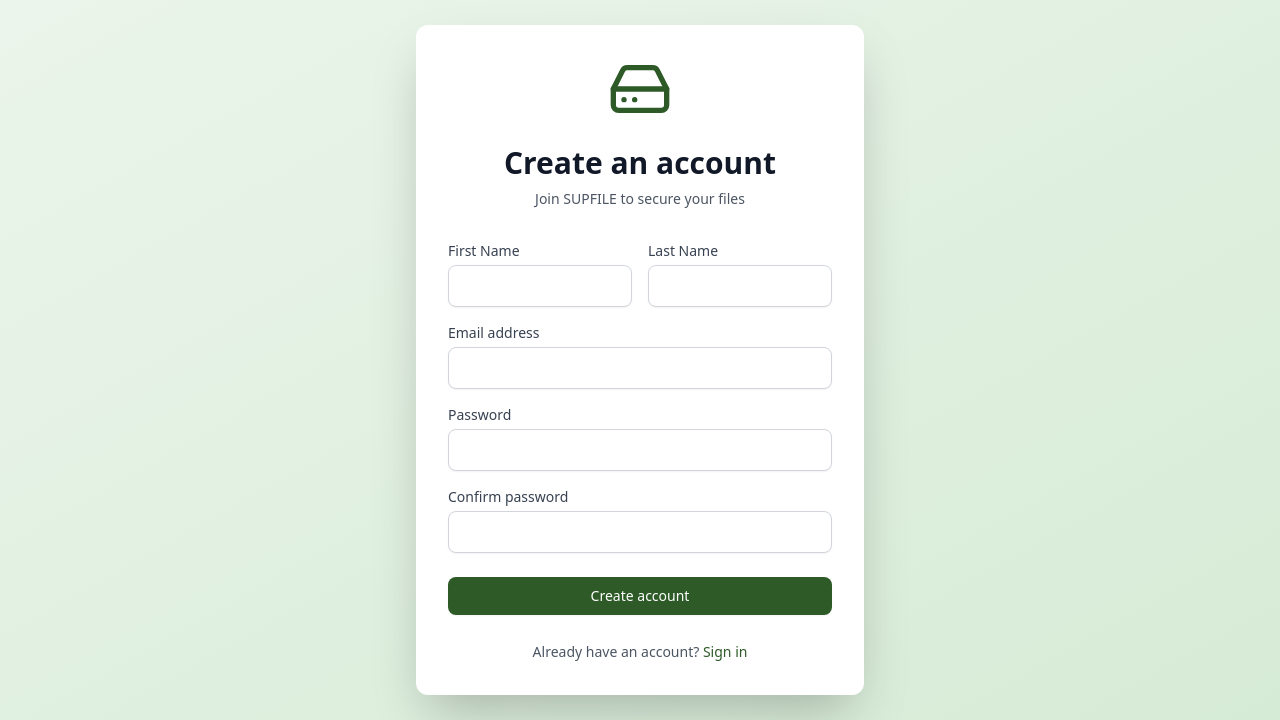
Register Flow › should show an error when passwords do not match
The image size is (1280, 720).
Type "test@example.com" into the field below "Email address".
click(640, 368); type("test@example.com")  # box [448, 347, 832, 389]
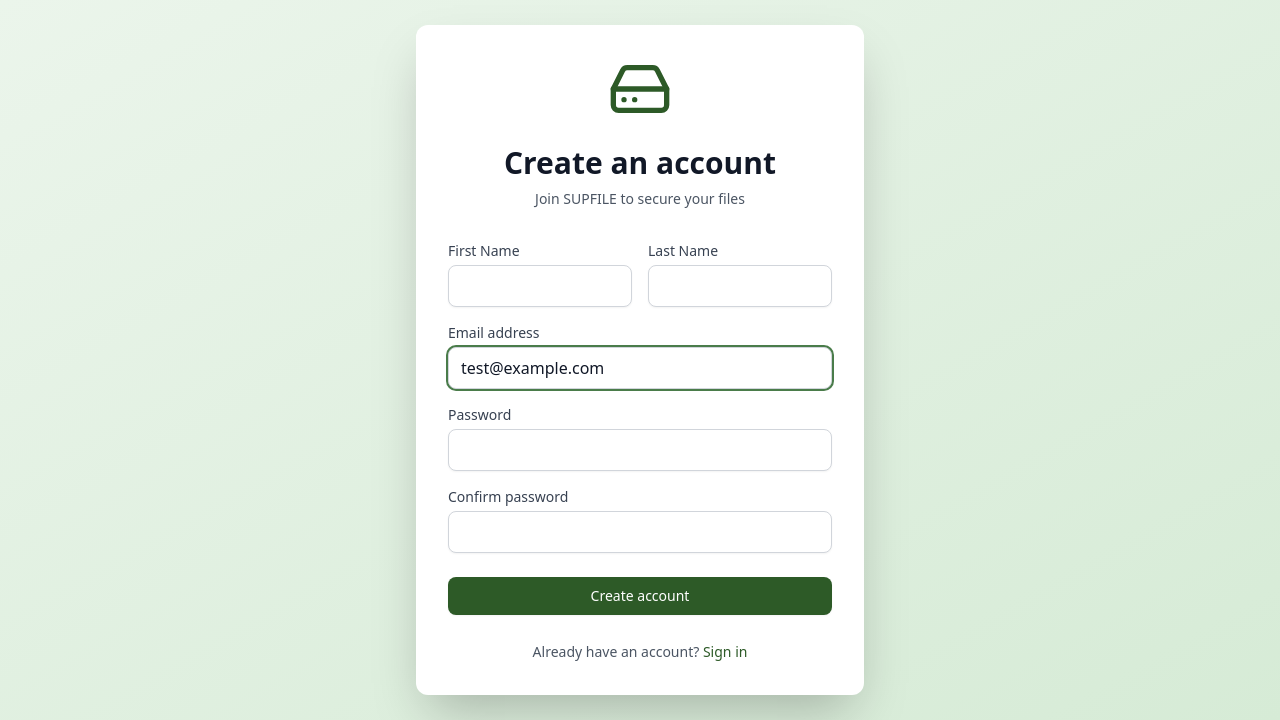
Type "password123" into the 1st password field.
click(640, 450); type("password123")  # box [448, 429, 832, 471]
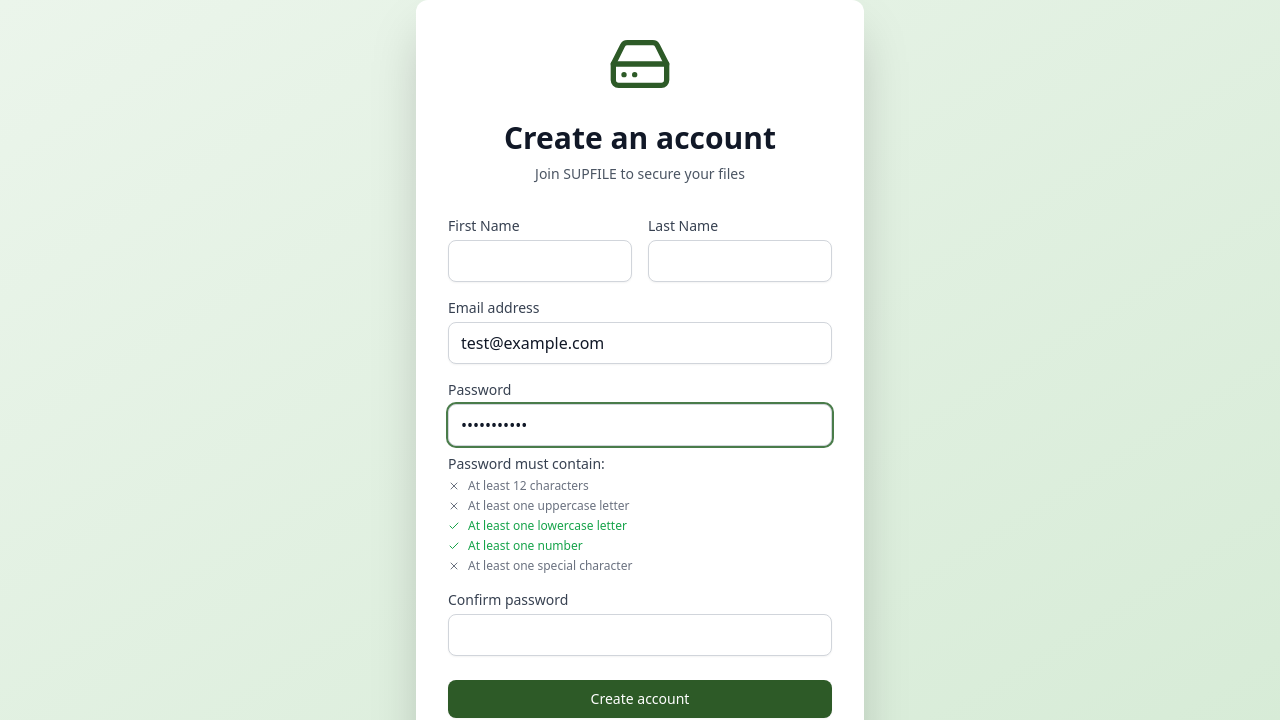
Type "different123" into the password field below "Confirm password".
click(640, 635); type("different123")  # box [448, 614, 832, 656]
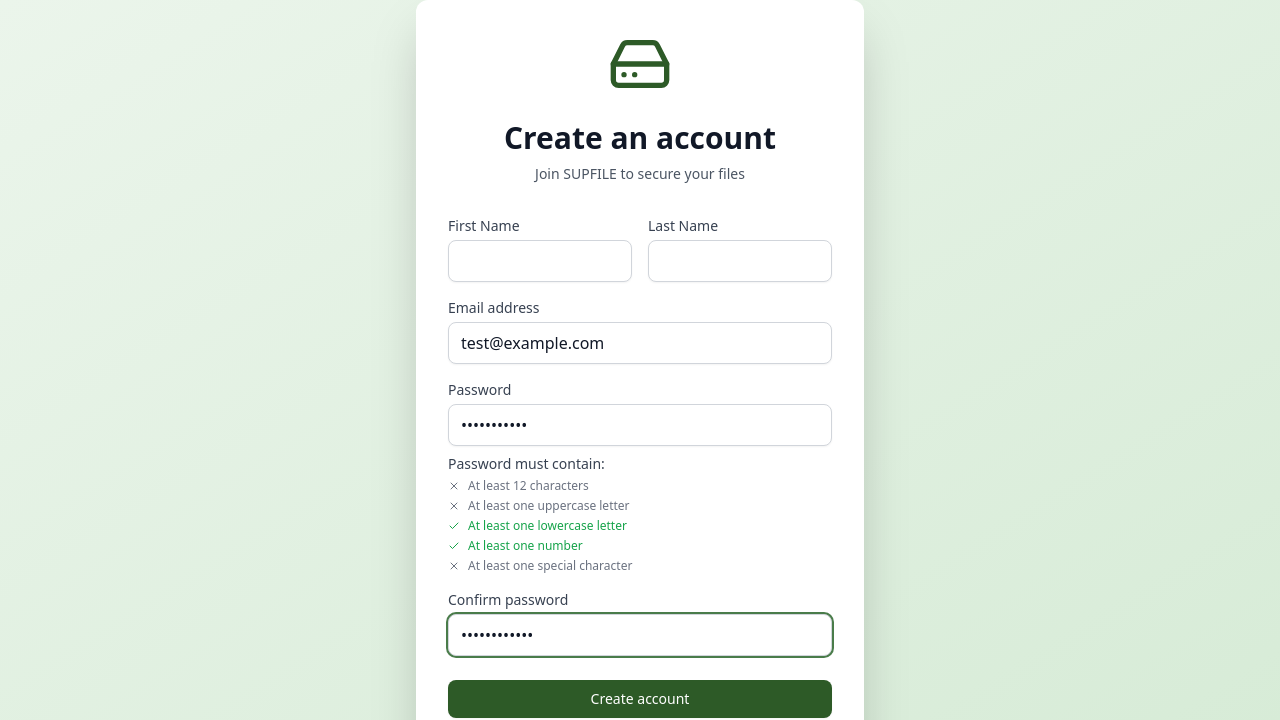
Click the submit button.
click(640, 699)  # box [448, 680, 832, 718]
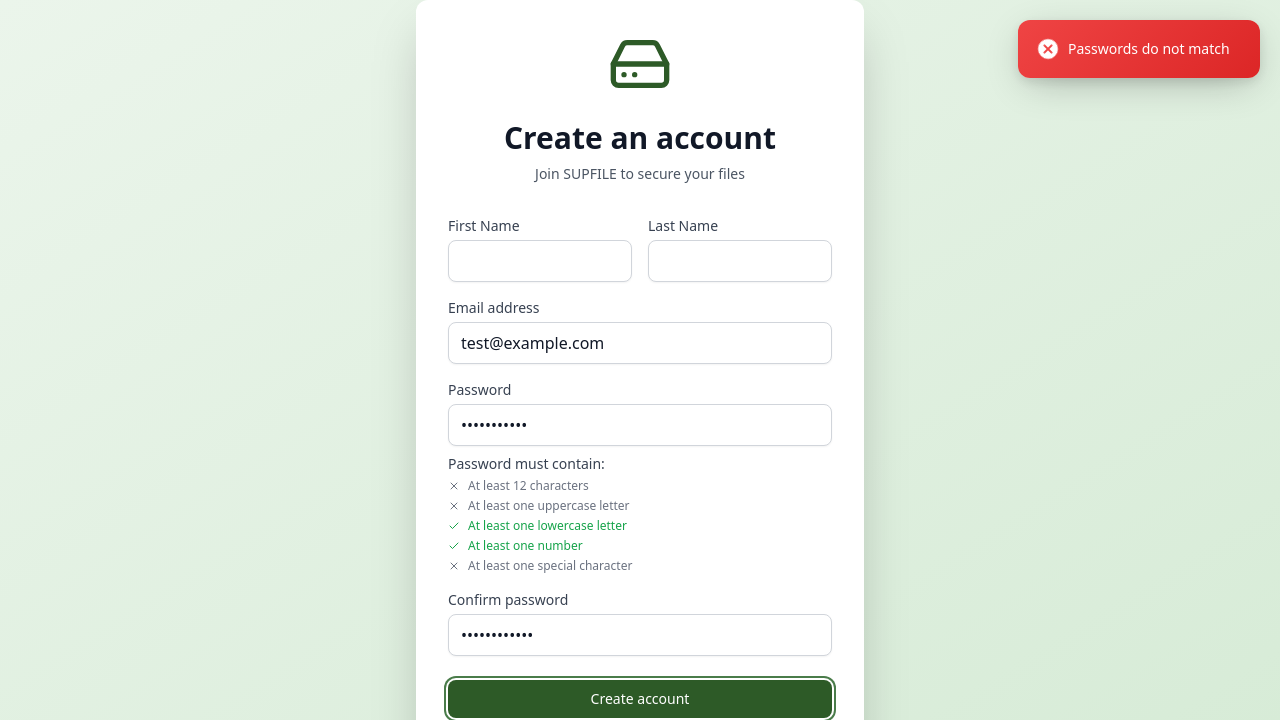
expect the text "Passwords do not match" is shown: met, box [1068, 40, 1230, 58]
